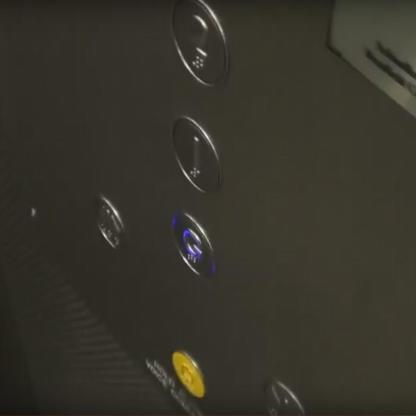1: (169, 112, 222, 197)
2: (167, 0, 230, 92)
G: (169, 209, 217, 282)
alarm: (170, 349, 206, 398)
open: (93, 192, 126, 253)
